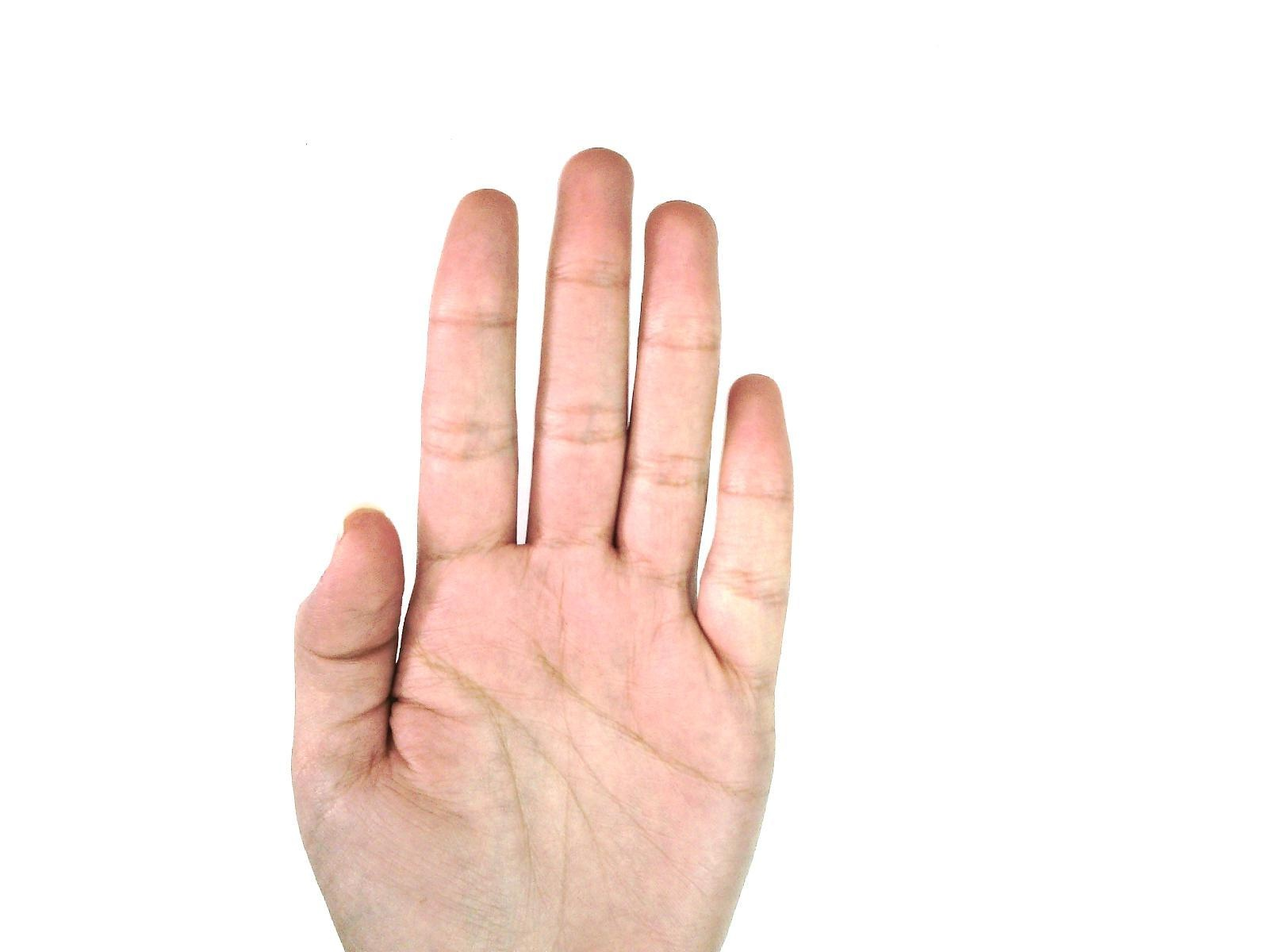open_palm: (288, 146, 798, 951)
